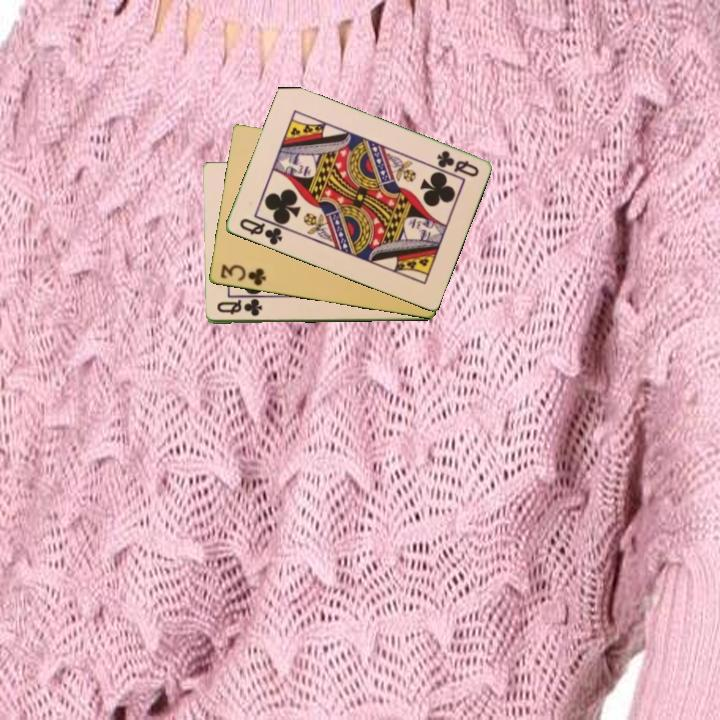3c: (217, 261, 269, 289)
Qc: (236, 215, 285, 248), (433, 147, 482, 180), (213, 297, 265, 319)
